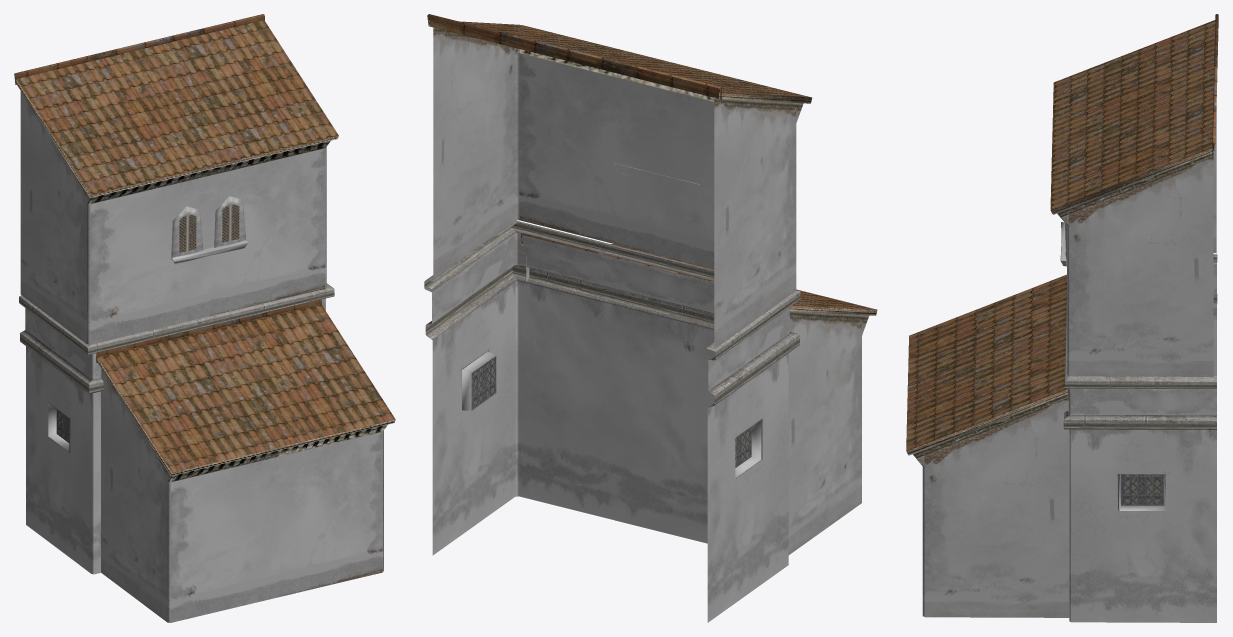
The model's file is .Basic0.fbx.
The picture shows the model from 3 angles, left to right: view 1: azimuth 30°, elevation 25°; view 2: azimuth 150°, elevation 25°; view 3: azimuth 270°, elevation 25°; orthographic projection. The views are drawn at different scales.
Parts seen in each view (by area): view 1: LV_Spechia_City_PalaceWall05_SM_SMK; view 2: LV_Spechia_City_PalaceWall05_SM_SMK; view 3: LV_Spechia_City_PalaceWall05_SM_SMK.
Boxes of the visible parts, left/top/right/bottom form: LV_Spechia_City_PalaceWall05_SM_SMK: left=14, top=14, right=395, bottom=622; LV_Spechia_City_PalaceWall05_SM_SMK: left=424, top=14, right=877, bottom=622; LV_Spechia_City_PalaceWall05_SM_SMK: left=906, top=14, right=1218, bottom=622.
Size of the model in its own units: 2.3 by 3.98 by 2.34.
